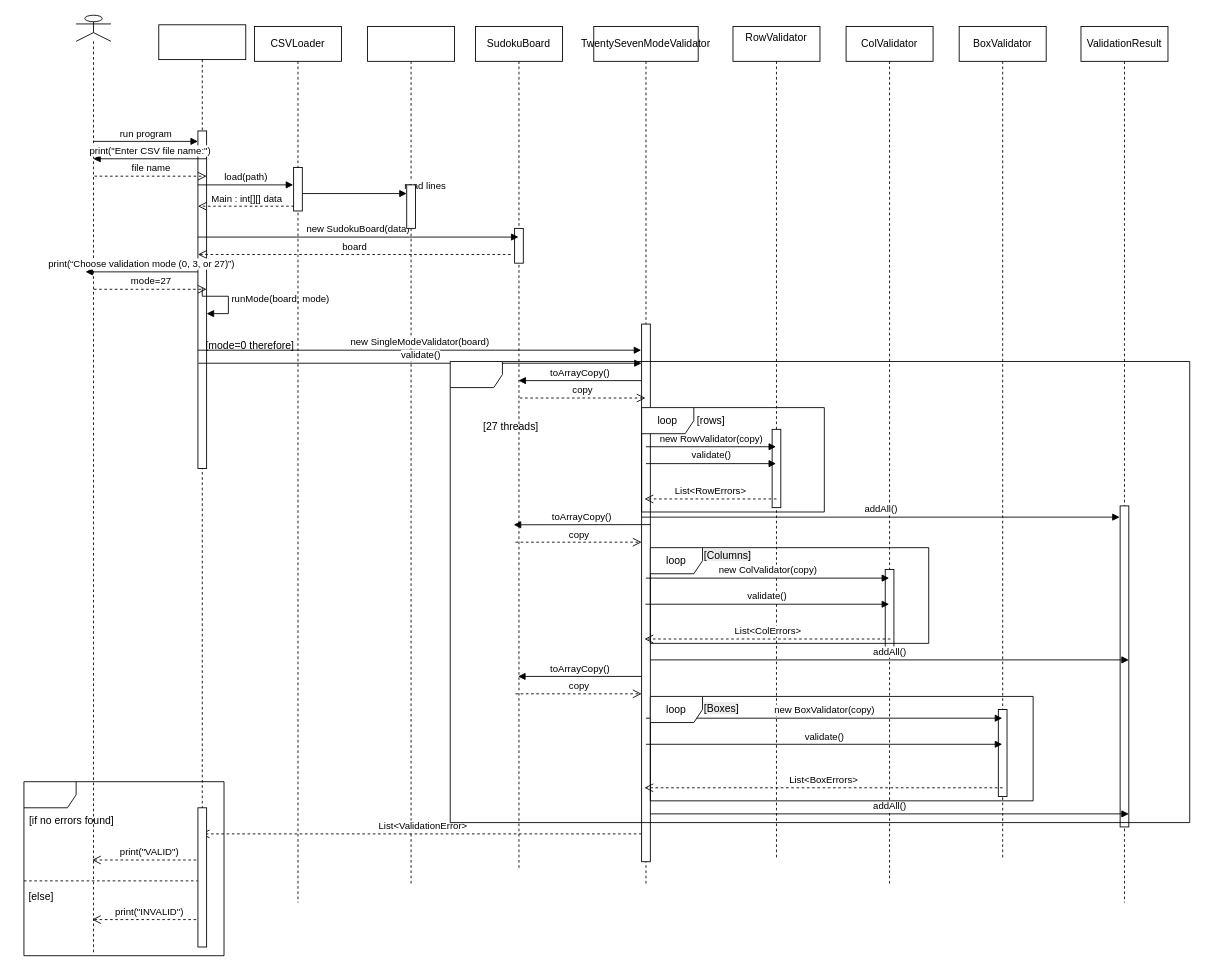
Image size: 1205x971. Some labels were removed from this diagram. The shapes that lost their labels are listed below. From the top down, each one's box as (x1, y1, x2, y2) in pixels, then its label:
(158, 24, 246, 894): Main
(367, 26, 455, 885): File
(449, 361, 1190, 823): par
(23, 781, 224, 956): alt
